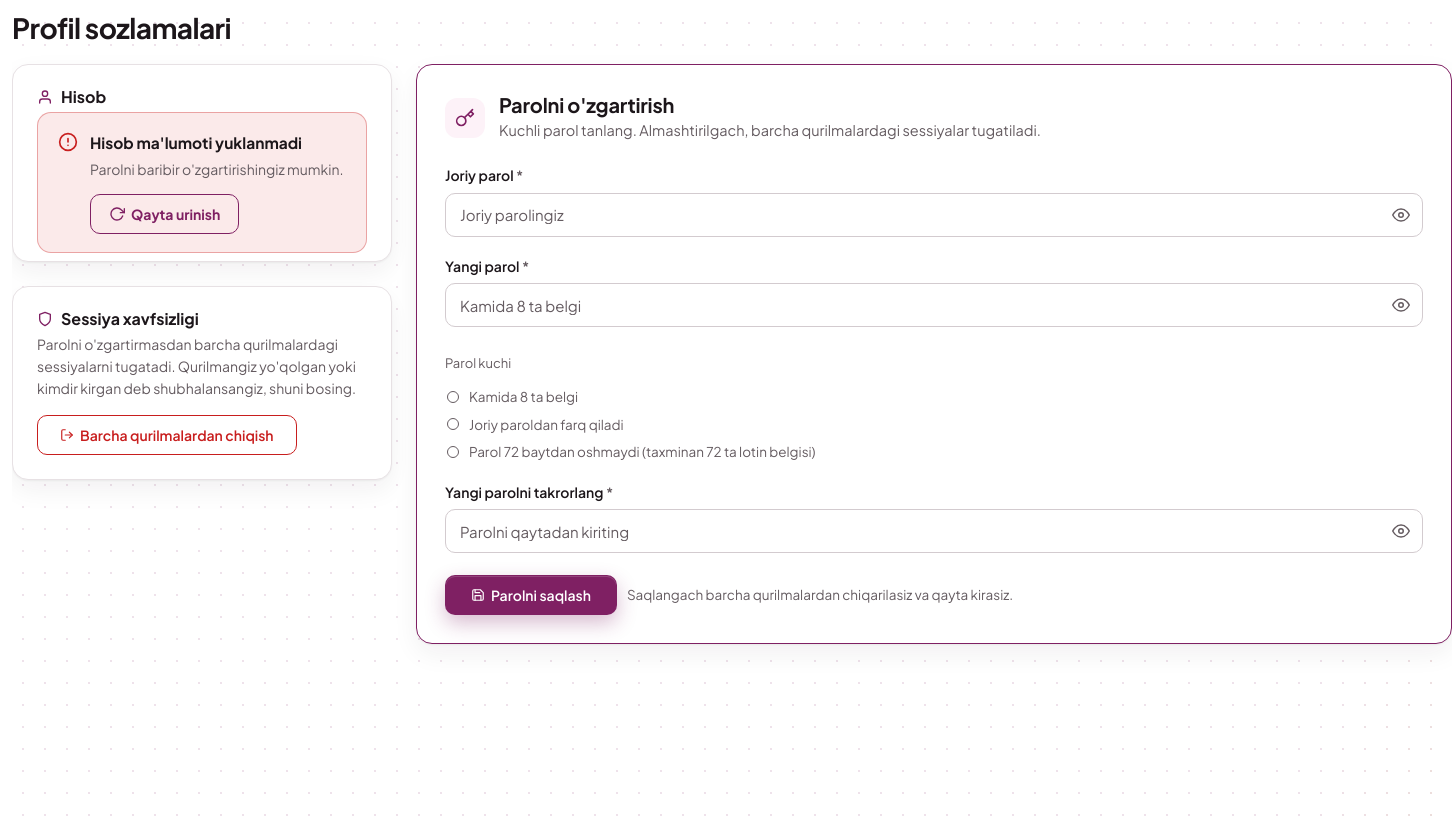
Scenario: ProfileAdmin: «Hisob» kartasi (GET /admin/me) › so'rov xatosi — xato paneli, parol formasi baribir ishlaydi; «Qayta urinish» qayta yuklaydi
The image size is (1452, 822).
expect the message that starts with "Hisob ma'lumoti yuklanmadi" is shown: met, box left=90, top=133, right=302, bottom=152
expect the password field labelled "Joriy parol *" is enabled: met, box left=445, top=193, right=1423, bottom=237
Click the button "Qayta urinish" at [165, 214], box left=90, top=194, right=239, bottom=234
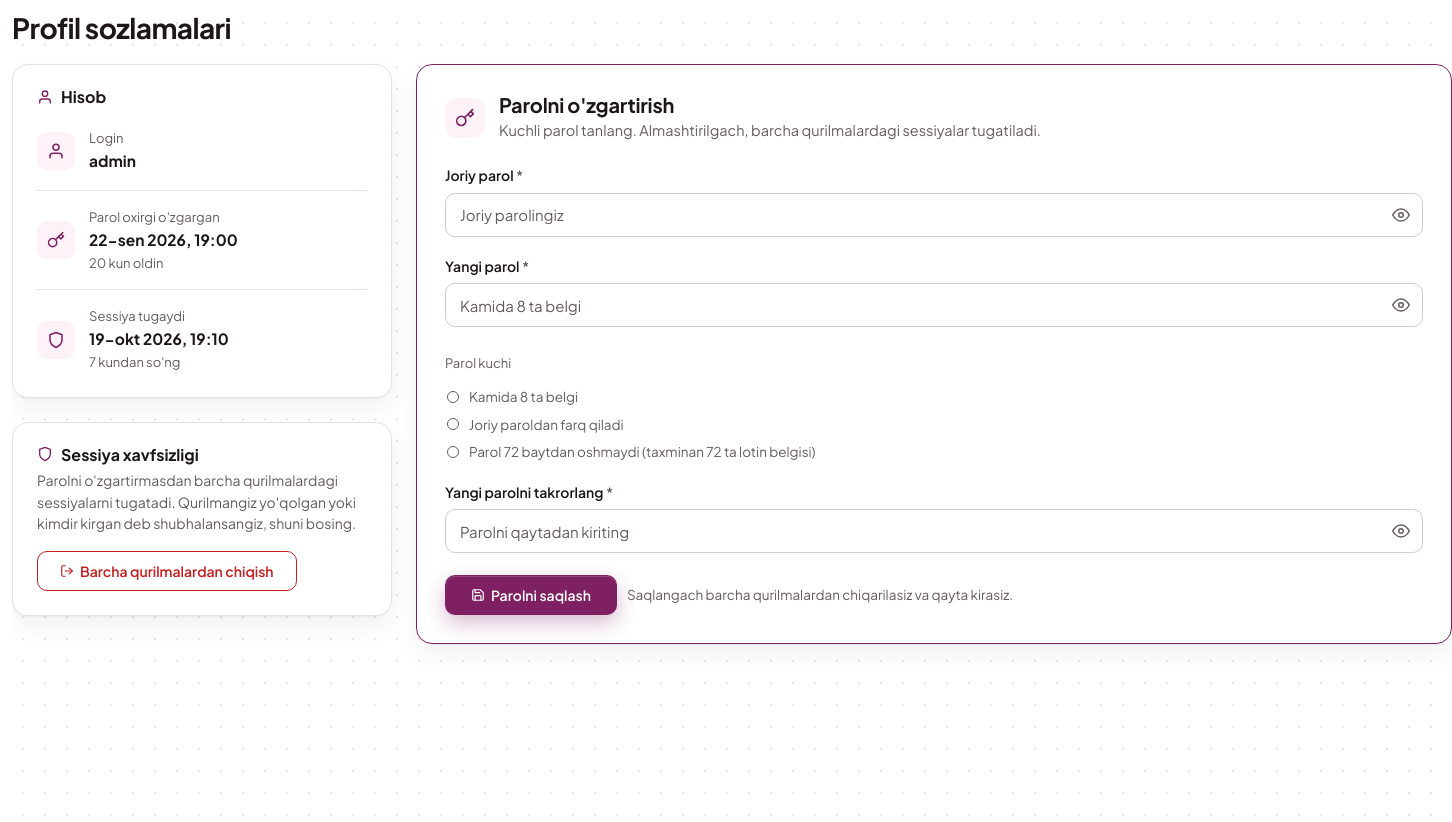
expect the text "Login" is shown: met, box left=89, top=130, right=124, bottom=146
